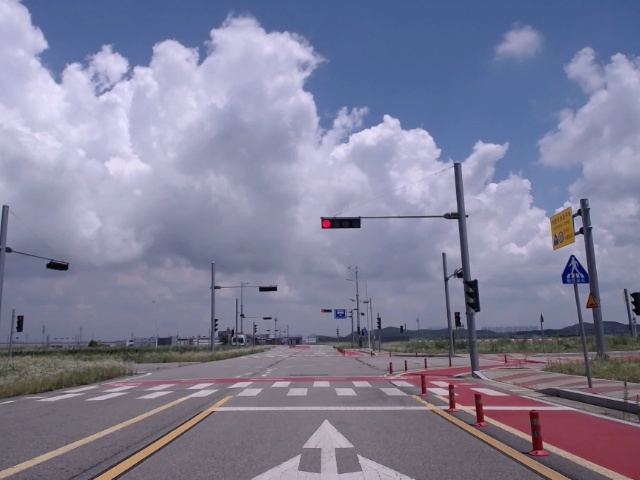red_4: (321, 217, 361, 229)
